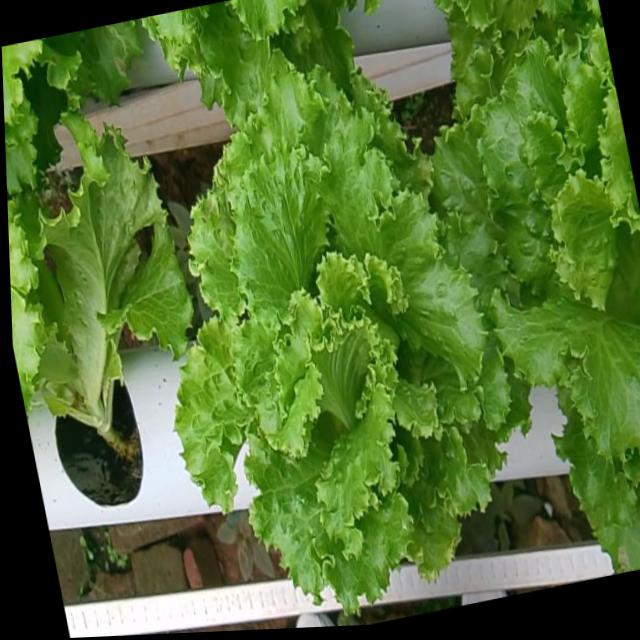Mature: (170, 67, 508, 609), (430, 41, 640, 472)
